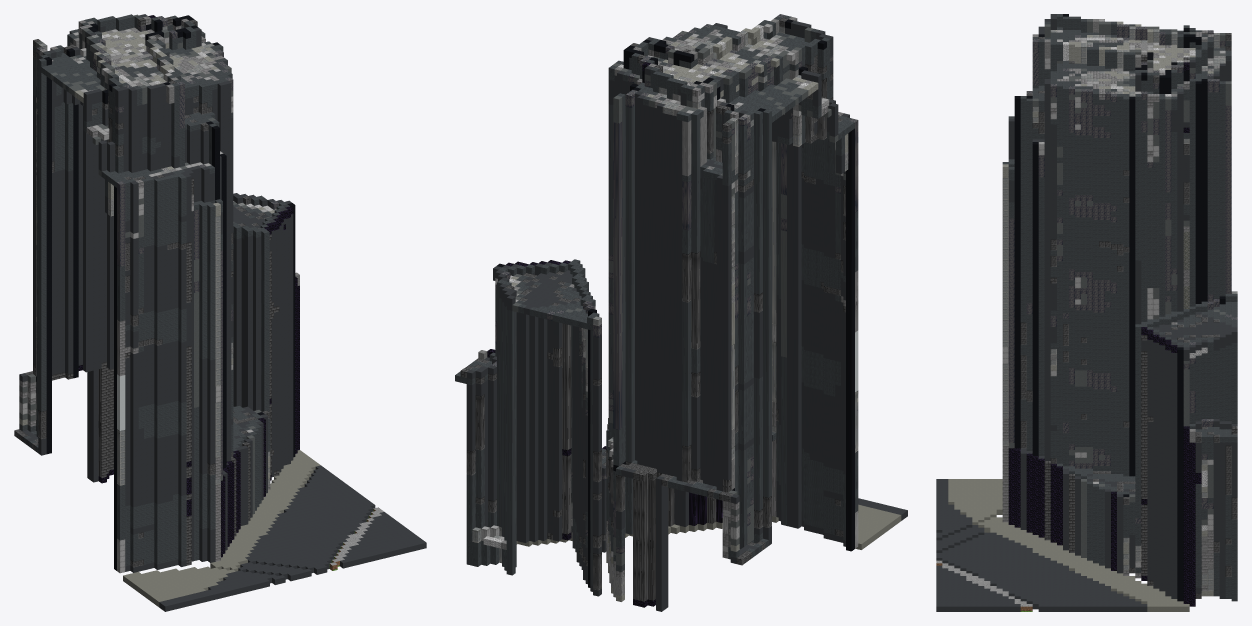
The model's file is tile_2_2.glb.
3 views of the same model, side by side, from view 1: azimuth 30°, elevation 25°; view 2: azimuth 150°, elevation 25°; view 3: azimuth 270°, elevation 25° (orthographic). The views are drawn at different scales.
Parts seen in each view (by area): view 1: minecraft:gray_concrete:south, minecraft:gray_wool:south, minecraft:gray_concrete:west, minecraft:gray_concrete:up, minecraft:gray_wool:west, minecraft:black_concrete:south, minecraft:light_gray_concrete:up, minecraft:gray_wool:up, minecraft:deepslate_bricks:south, minecraft:obsidian:south, minecraft:polished_andesite:south, minecraft:cyan_terracotta:south (+14 smaller); view 2: minecraft:gray_concrete:north, minecraft:gray_wool:north, minecraft:gray_wool:west, minecraft:gray_concrete:west, minecraft:gray_wool:up, minecraft:polished_deepslate:north, minecraft:deepslate_bricks:north, minecraft:black_concrete:north, minecraft:basalt:north, minecraft:polished_deepslate:west, minecraft:gray_concrete:up, minecraft:basalt:west (+20 smaller); view 3: minecraft:gray_wool:east, minecraft:gray_concrete:east, minecraft:gray_concrete:up, minecraft:black_concrete:east, minecraft:basalt:east, minecraft:obsidian:east, minecraft:gray_wool:up, minecraft:light_gray_concrete:up, minecraft:cyan_terracotta:east, minecraft:polished_deepslate:east, minecraft:polished_andesite:east, minecraft:deepslate_bricks:east (+17 smaller).
Boxes of the visible parts, box(x1,y1,x2,y2) form: minecraft:gray_concrete:south: box(22, 26, 426, 611); minecraft:gray_wool:south: box(22, 16, 270, 566); minecraft:gray_concrete:west: box(19, 26, 342, 611); minecraft:gray_concrete:up: box(20, 14, 426, 606); minecraft:gray_wool:west: box(19, 17, 281, 564); minecraft:black_concrete:south: box(46, 20, 295, 468); minecraft:light_gray_concrete:up: box(123, 450, 320, 601); minecraft:gray_wool:up: box(24, 14, 286, 454); minecraft:deepslate_bricks:south: box(52, 19, 279, 565); minecraft:obsidian:south: box(78, 208, 299, 557); minecraft:polished_andesite:south: box(42, 26, 270, 485); minecraft:cyan_terracotta:south: box(22, 32, 254, 514); minecraft:gray_concrete:north: box(466, 23, 845, 611); minecraft:gray_wool:north: box(455, 31, 845, 585); minecraft:gray_wool:west: box(472, 23, 858, 575); minecraft:gray_concrete:west: box(472, 25, 907, 611); minecraft:gray_wool:up: box(455, 15, 854, 551); minecraft:polished_deepslate:north: box(466, 20, 845, 590); minecraft:deepslate_bricks:north: box(460, 57, 845, 601); minecraft:black_concrete:north: box(588, 21, 851, 587); minecraft:basalt:north: box(495, 60, 840, 553); minecraft:polished_deepslate:west: box(472, 55, 833, 589); minecraft:gray_concrete:up: box(467, 20, 907, 555); minecraft:basalt:west: box(507, 55, 858, 553); minecraft:gray_wool:east: box(1008, 16, 1237, 601); minecraft:gray_concrete:east: box(936, 19, 1237, 611); minecraft:gray_concrete:up: box(936, 14, 1237, 606); minecraft:black_concrete:east: box(1014, 30, 1225, 601); minecraft:basalt:east: box(1008, 26, 1231, 508); minecraft:obsidian:east: box(1008, 65, 1201, 606); minecraft:gray_wool:up: box(1002, 14, 1237, 494); minecraft:light_gray_concrete:up: box(948, 479, 1189, 606); minecraft:cyan_terracotta:east: box(1008, 21, 1231, 557); minecraft:polished_deepslate:east: box(1020, 35, 1237, 598); minecraft:polished_andesite:east: box(1002, 29, 1219, 590); minecraft:deepslate_bricks:east: box(1044, 57, 1237, 585).
Bounding box in the file's own units: 50 × 87 × 50.
128 materials, 128 textured.
